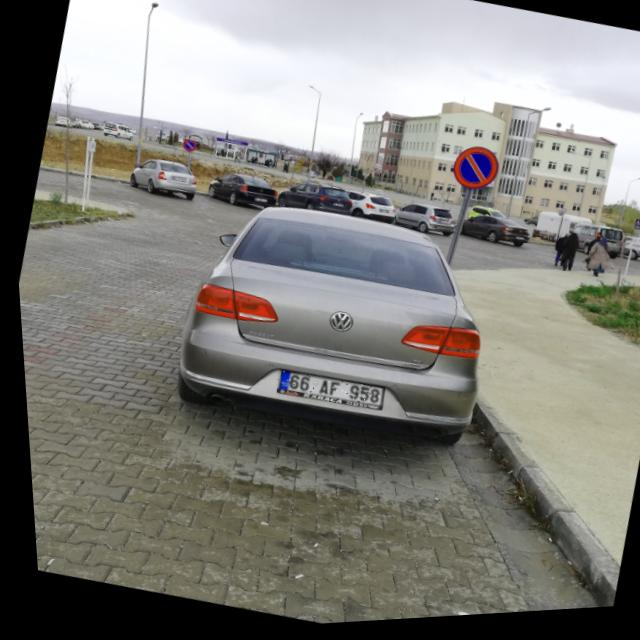license_plate: (272, 368, 380, 417)
